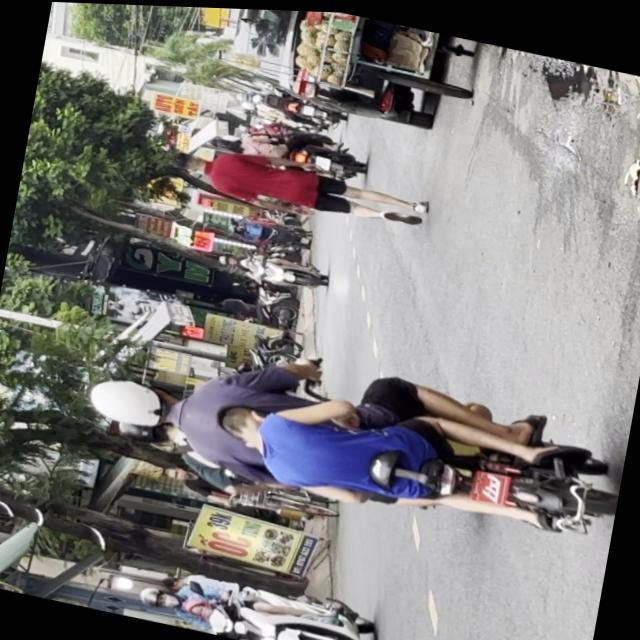helmet: (84, 370, 183, 435), (112, 417, 172, 447), (135, 582, 180, 611)
licenseplate: (78, 307, 631, 556), (133, 555, 384, 640)
motorcyclist: (206, 395, 288, 453), (180, 595, 218, 621)
